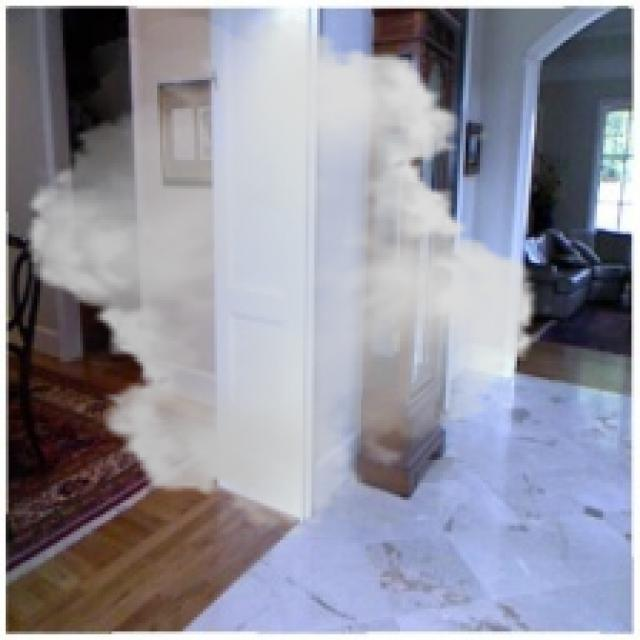smoke: (6, 6, 557, 540)
